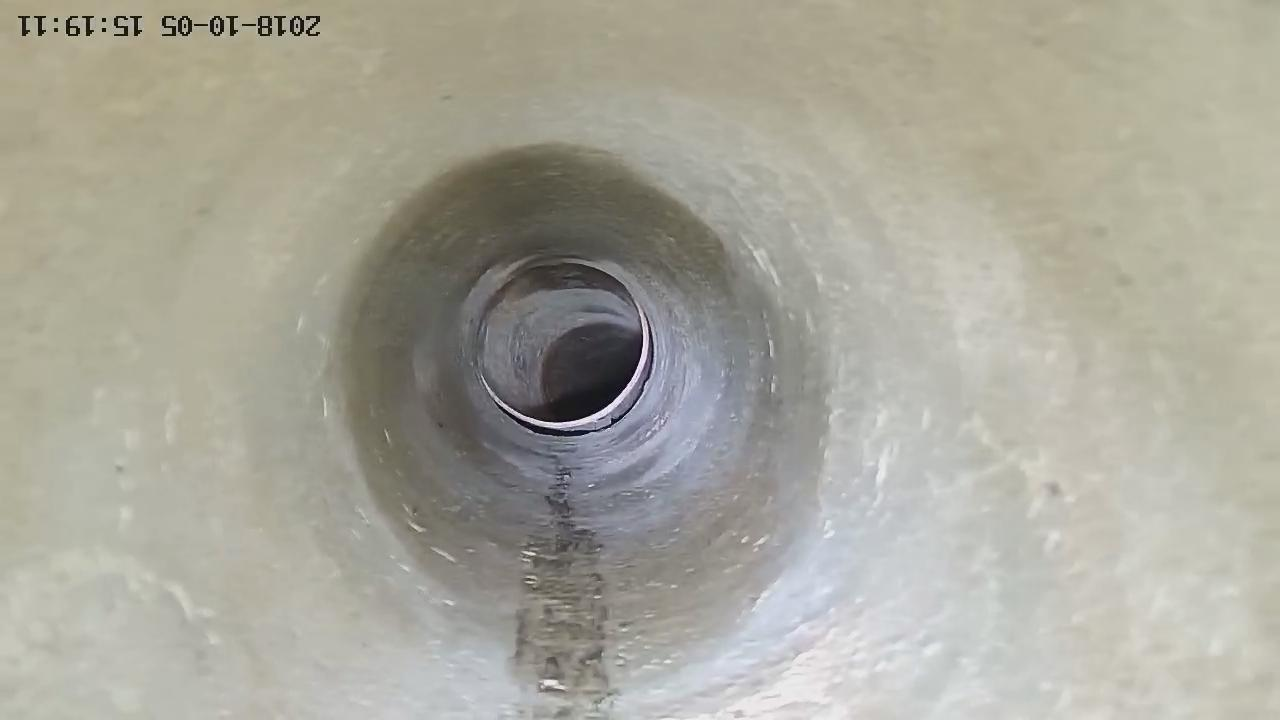CKTJ: (472, 276, 663, 441)
